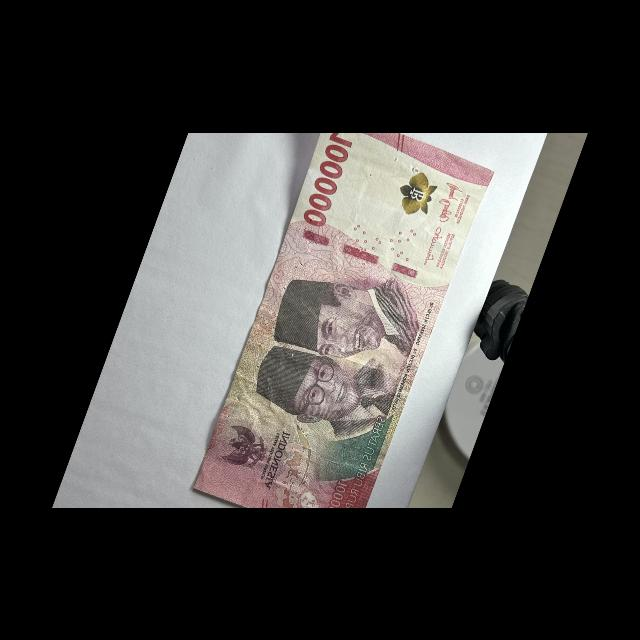Palsu-100k: (179, 101, 499, 558)
Tinta-Palsu-100k: (390, 164, 442, 221)
